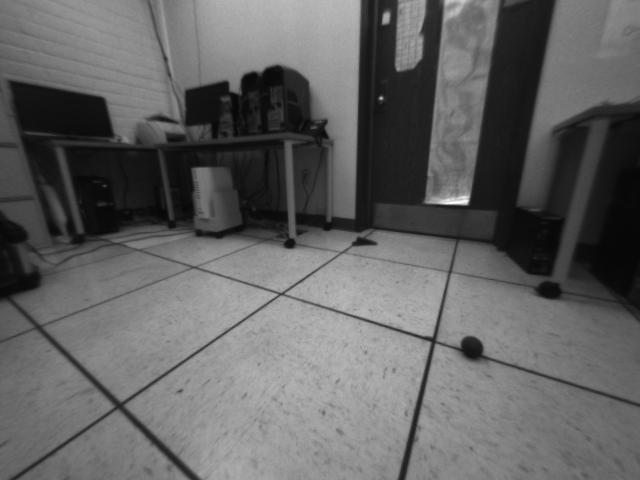dogtoy: (451, 326, 495, 363)
